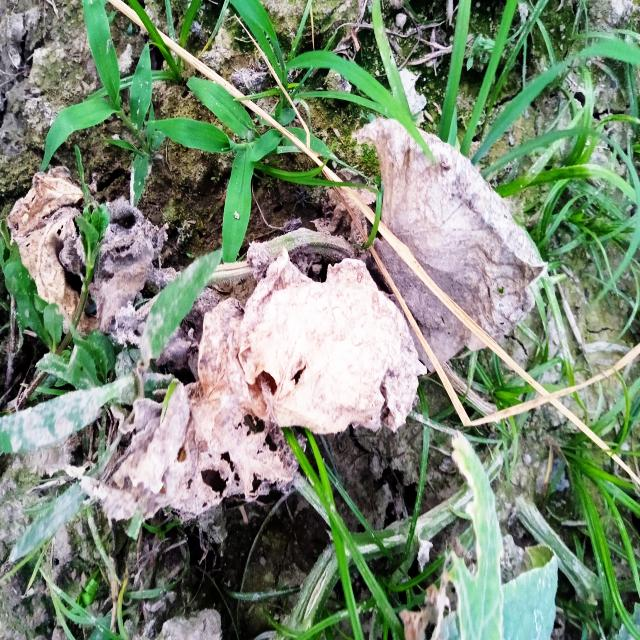Bacterial-Wilt: (349, 116, 553, 376), (236, 242, 430, 435), (6, 165, 102, 337)
